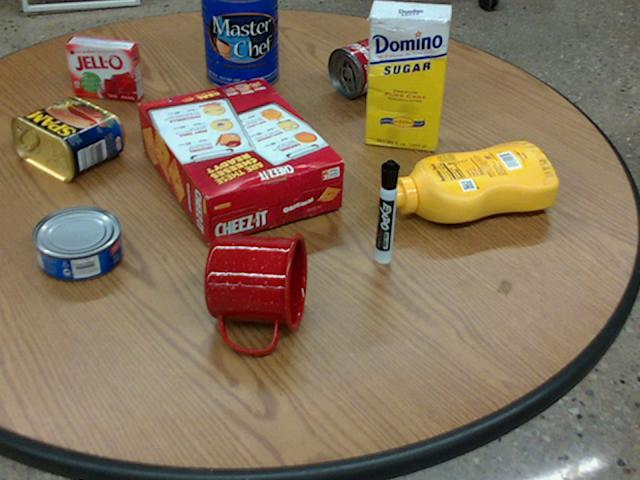cracker_box: (138, 78, 344, 244)
gelatin_box: (66, 35, 142, 100)
large_marker: (375, 160, 399, 263)
master_chef_can: (202, 0, 279, 90)
mug: (204, 233, 305, 353)
mustard_bottle: (381, 141, 557, 222)
potted_meat_can: (11, 97, 122, 180)
sugar_box: (366, 0, 451, 150)
tomato_soup_can: (327, 28, 414, 96)
tuna_fish_can: (32, 205, 121, 280)
